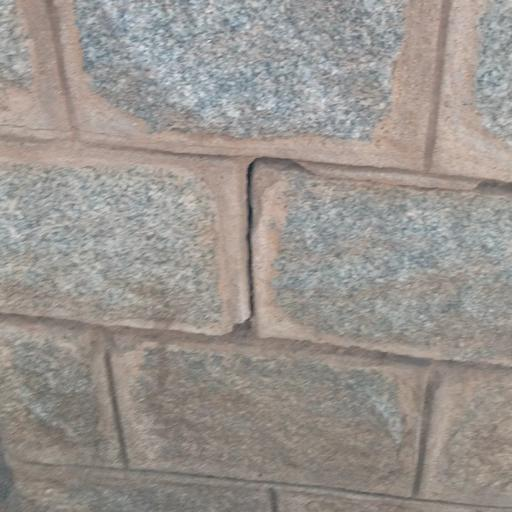major_crack: (176, 113, 319, 356)
